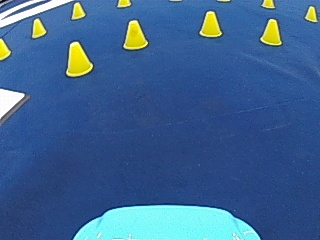cone: (64, 39, 93, 76), (121, 19, 148, 49), (198, 10, 222, 37), (259, 18, 282, 45), (31, 17, 46, 37), (70, 1, 85, 19), (0, 37, 11, 59), (304, 5, 317, 22), (261, 0, 274, 8), (117, 0, 130, 8)
